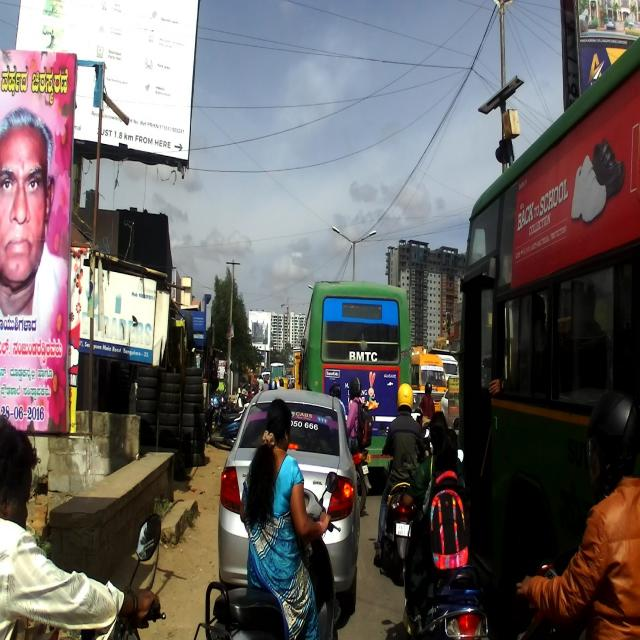Car: (456, 23, 640, 640)
bus: (300, 280, 412, 472)
scooter: (193, 471, 341, 640), (376, 421, 430, 577)
